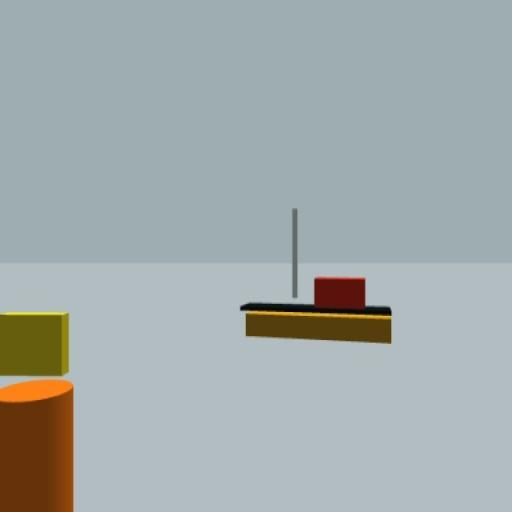vessel: (240, 208, 392, 343)
